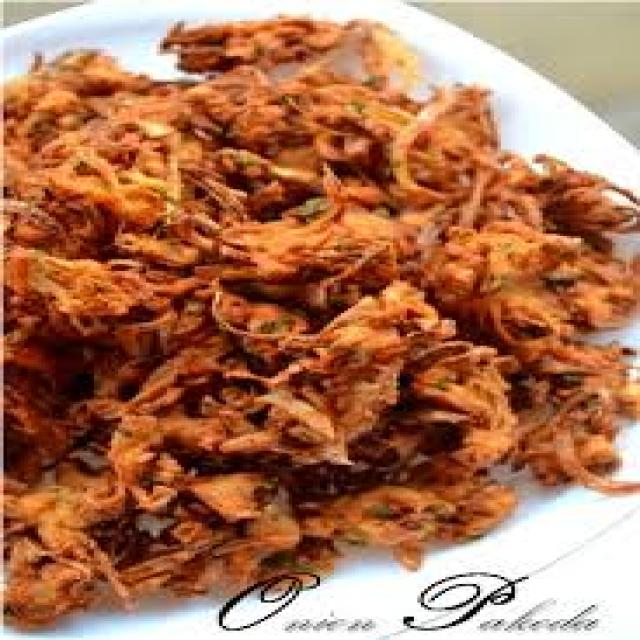BAJI: (11, 30, 627, 630)
